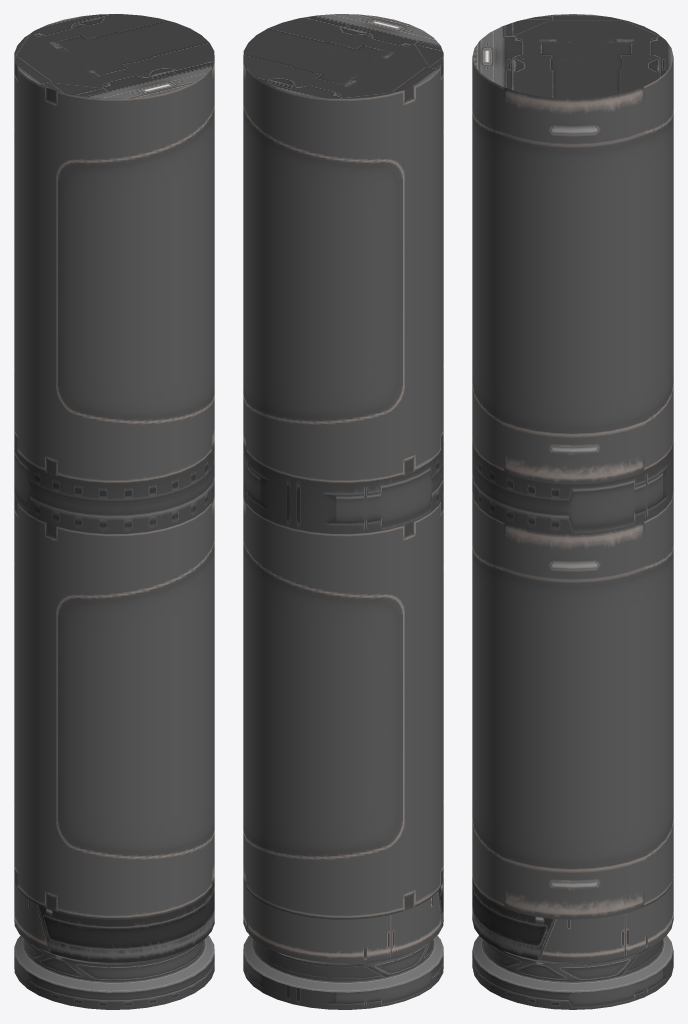
File: S_ColumnRound.gltf
3 renders of one model, left to right at view 1: azimuth 30°, elevation 25°; view 2: azimuth 150°, elevation 25°; view 3: azimuth 270°, elevation 25°, orthographic.
Visible parts, largest first — view 1: Cylinder_007-col; view 2: Cylinder_007-col; view 3: Cylinder_007-col.
Part boxes in pixels (left/top/right/bottom): Cylinder_007-col: left=14, top=14, right=214, bottom=1009; Cylinder_007-col: left=243, top=14, right=443, bottom=1009; Cylinder_007-col: left=472, top=14, right=673, bottom=1009.
Size of the model in its own units: 1 by 5 by 1.
Materials: 2 (2 with a texture image).
